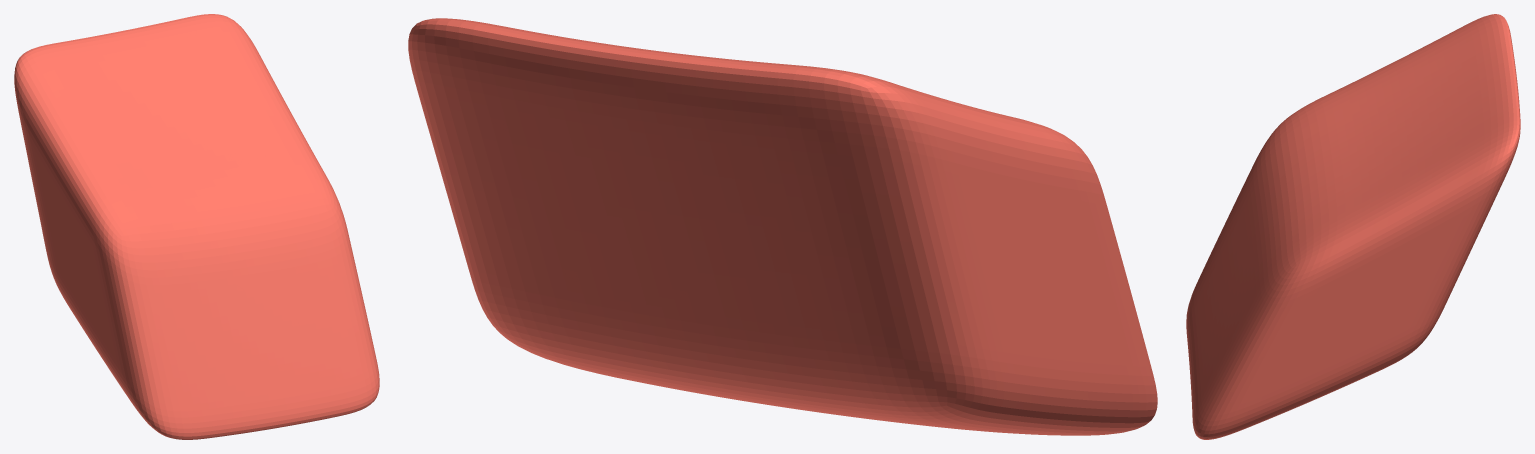
3 views of the same model, side by side, from view 1: azimuth 30°, elevation 25°; view 2: azimuth 150°, elevation 25°; view 3: azimuth 270°, elevation 25° (orthographic). The views are drawn at different scales.
Parts seen in each view (by area): view 1: waves_1.054; view 2: waves_1.054; view 3: waves_1.054.
Part boxes in pixels (<box>): waves_1.054: <box>14,14,379,439</box>; waves_1.054: <box>408,18,1157,435</box>; waves_1.054: <box>1186,14,1520,439</box>.
Bounding box in the file's own units: 30.13 × 34.92 × 32.92.
